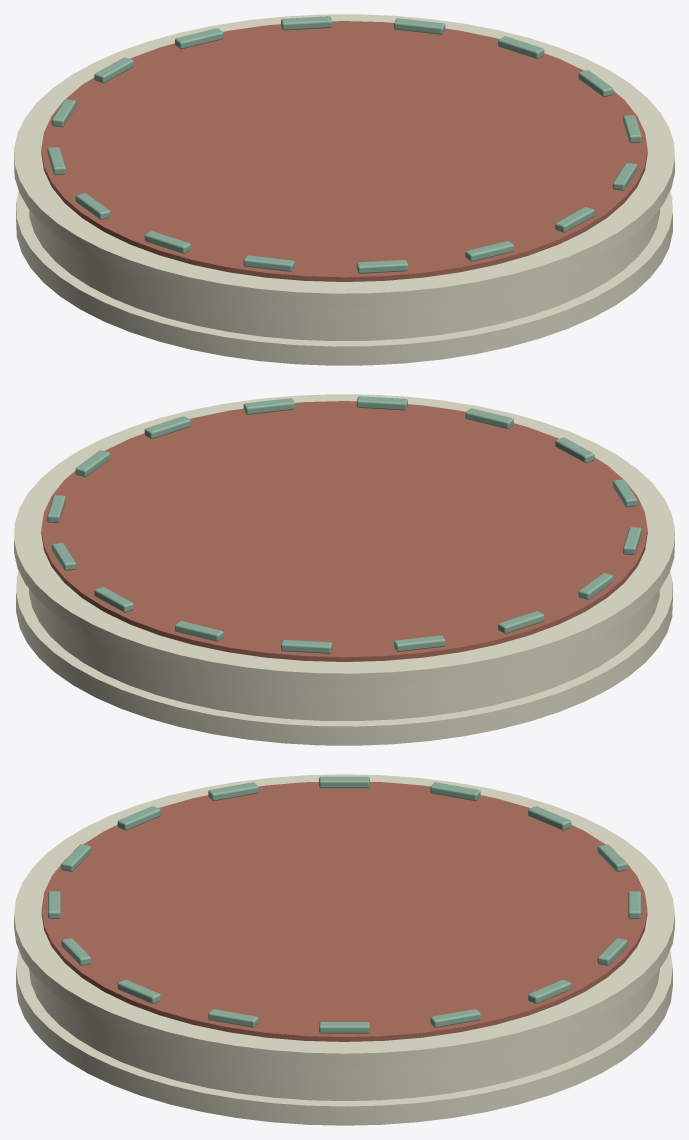
The model's file is enchanted-harp-garden-and-music-sanctuary-performance--a793f900__30395.glb.
The picture shows the model from 3 angles, top to bottom: view 1: azimuth 30°, elevation 25°; view 2: azimuth 150°, elevation 25°; view 3: azimuth 270°, elevation 25°; orthographic projection.
Parts seen in each view (by area): view 1: performance-dais; view 2: performance-dais; view 3: performance-dais.
Part boxes in pixels (x1,y1,x2,y2): performance-dais: [14, 14, 674, 365]; performance-dais: [14, 394, 674, 745]; performance-dais: [14, 774, 674, 1125].
Bounding box in the file's own units: 3.12 × 0.4461 × 3.12.
